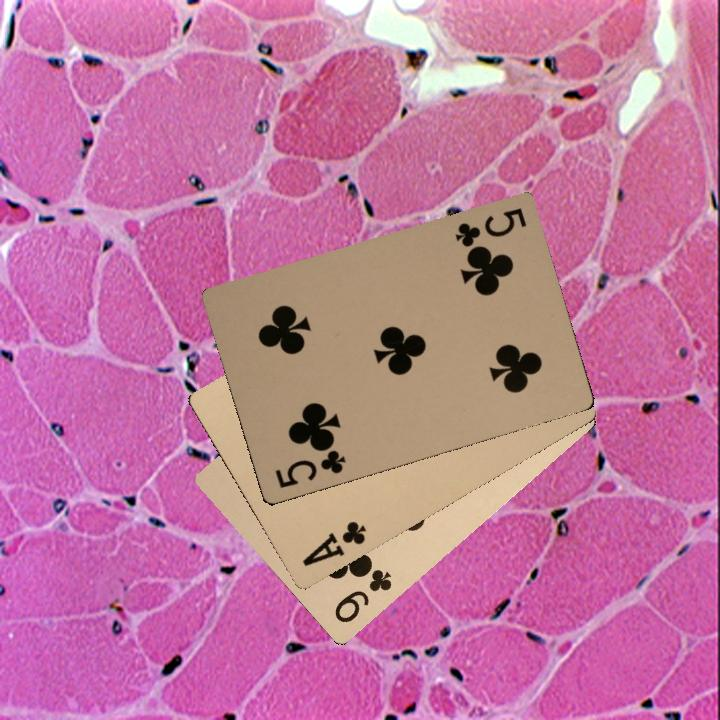5c: (271, 440, 349, 491), (451, 201, 529, 250)
9c: (330, 563, 395, 626)
Ac: (298, 516, 369, 569)
